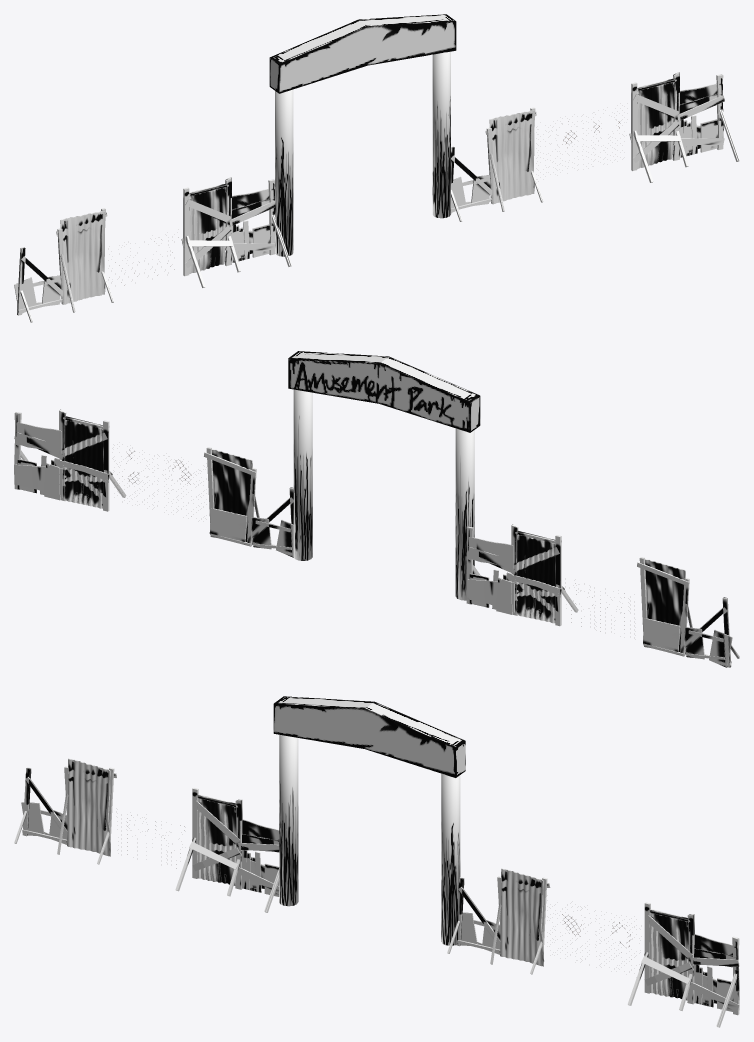
The model's file is AmusementParkFence.fbx.
The picture shows the model from 3 angles, top to bottom: view 1: azimuth 30°, elevation 25°; view 2: azimuth 150°, elevation 25°; view 3: azimuth 330°, elevation 25°; orthographic projection. The views are drawn at different scales.
Visible parts, largest first — view 1: Cube.006; view 2: Cube.006; view 3: Cube.006.
Part boxes in pixels (x1,y1,x2,y2): Cube.006: (14, 14, 739, 322); Cube.006: (14, 351, 739, 667); Cube.006: (14, 696, 739, 1027).
Bounding box in the file's own units: 1663 × 481 × 101.
